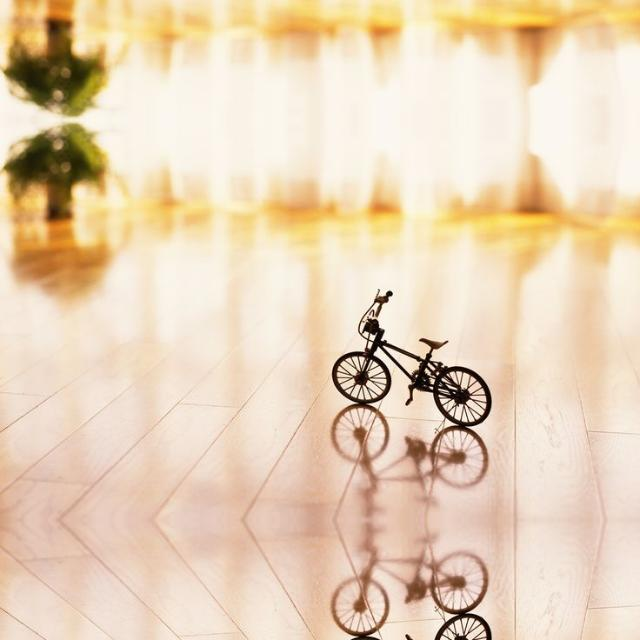obstacle: (319, 282, 497, 438), (319, 601, 497, 640)
